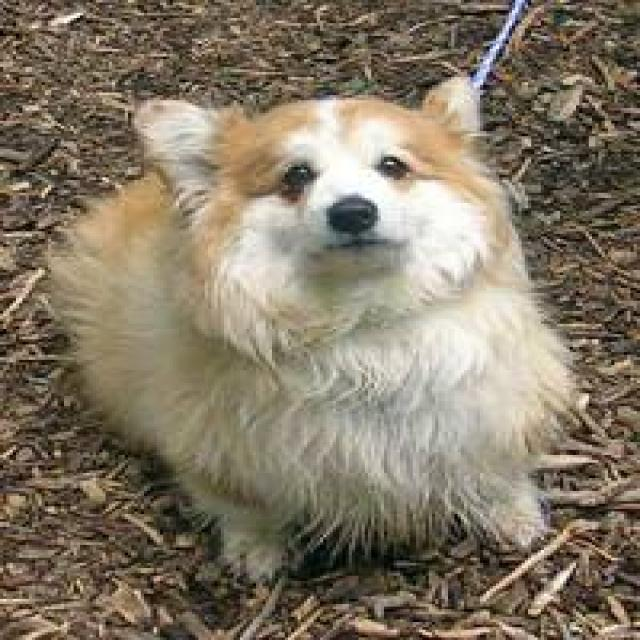dog: (42, 72, 586, 581)
